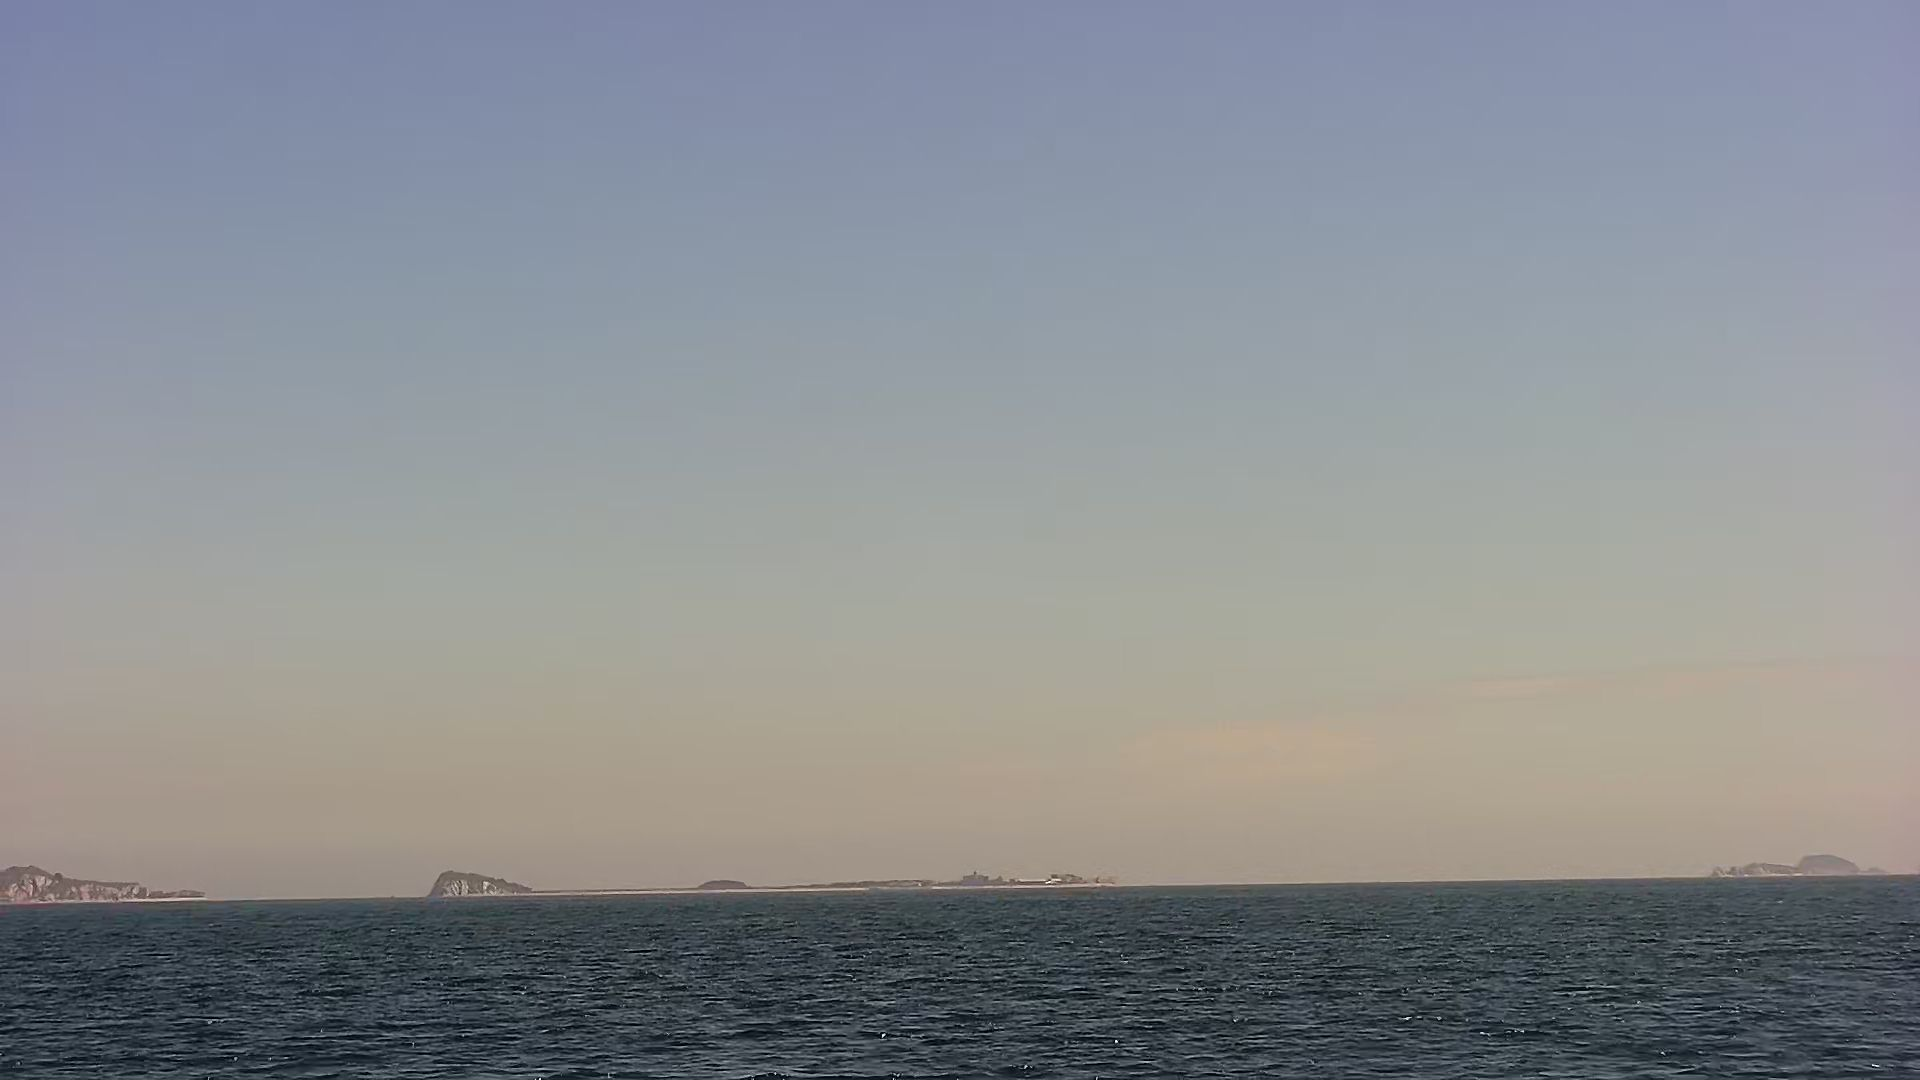rock: (802, 868, 1118, 895), (1, 861, 204, 903), (1710, 851, 1895, 881), (426, 866, 537, 898), (698, 877, 756, 895)
